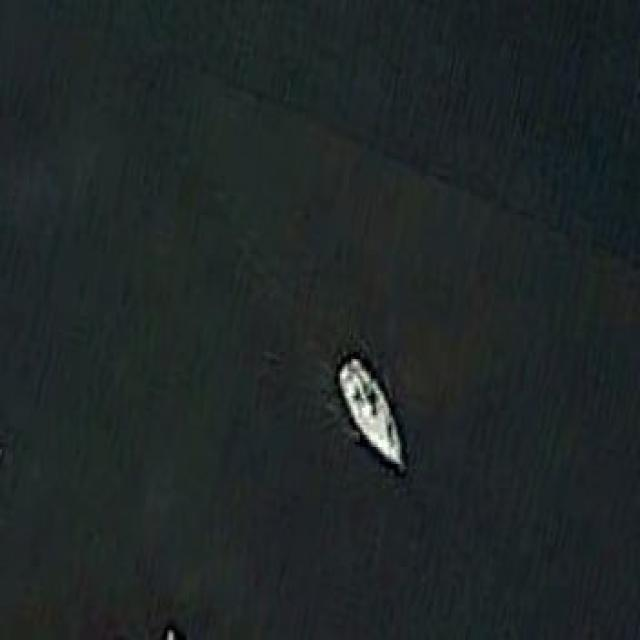ship: (334, 349, 406, 474)
